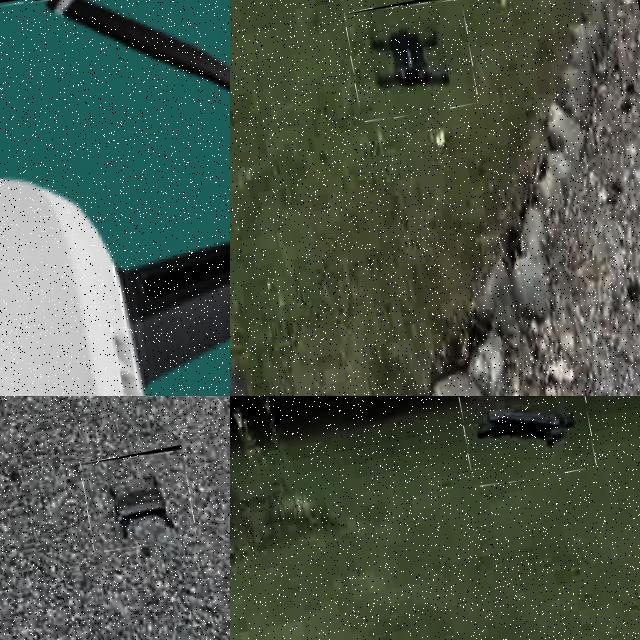0: (342, 0, 480, 124), (456, 396, 598, 489), (78, 445, 198, 555)
drone: (0, 0, 230, 396)
